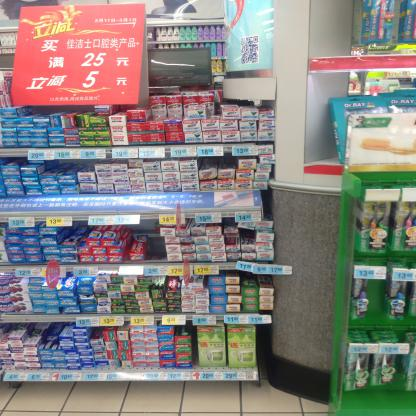Void: (144, 223, 166, 262), (255, 326, 269, 366), (32, 106, 91, 113), (202, 158, 235, 168), (48, 324, 57, 344), (72, 225, 83, 240)
